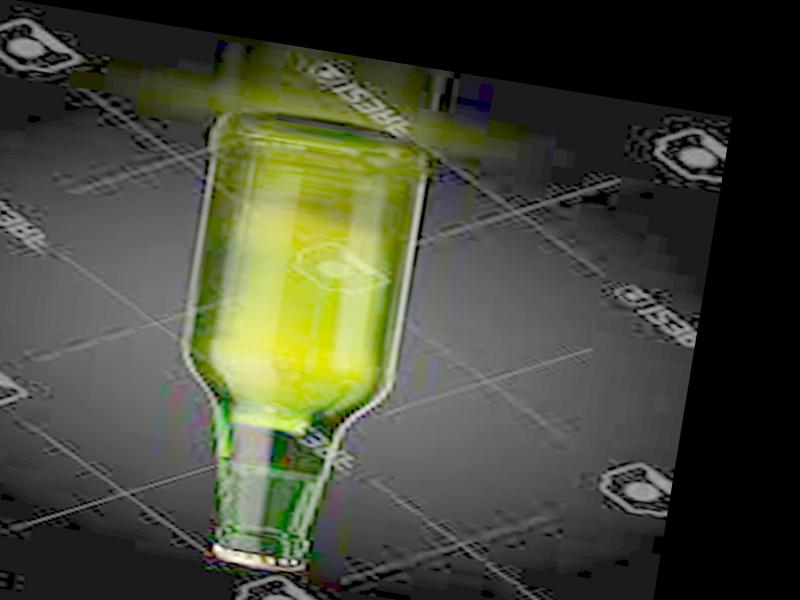Beer: (152, 106, 436, 585)
